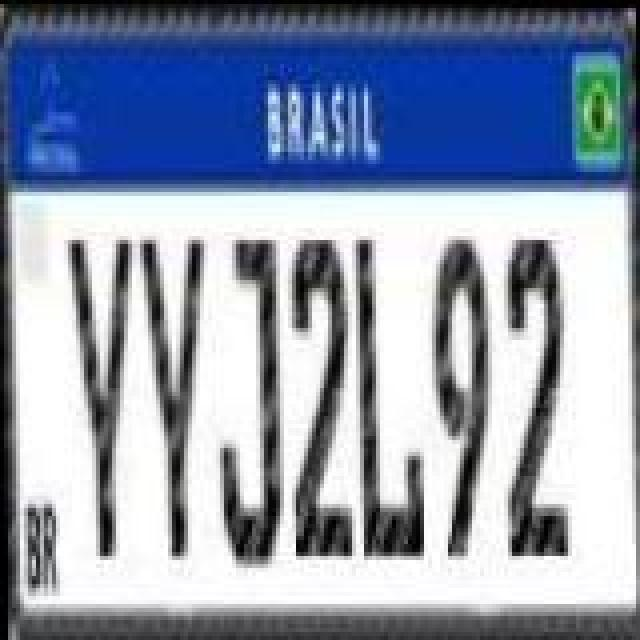2: (284, 228, 356, 564), (502, 226, 570, 562)
9: (426, 228, 494, 564)
J: (216, 236, 288, 572)
L: (354, 232, 422, 556)
Y: (68, 236, 140, 560), (142, 234, 210, 558)
